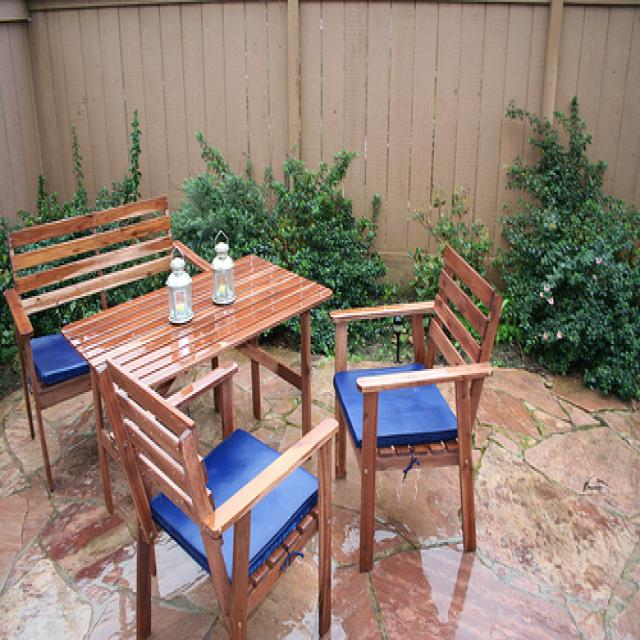chair: (104, 353, 338, 639), (329, 243, 504, 570)
